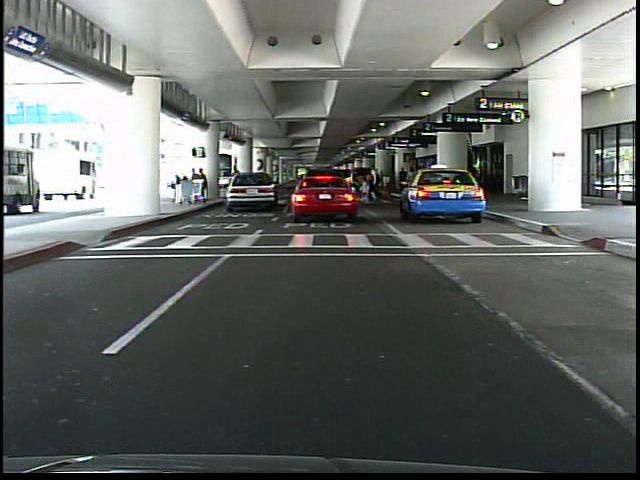person: (229, 166, 244, 208), (405, 166, 419, 200), (369, 163, 381, 200), (398, 164, 409, 200), (354, 171, 363, 201)
